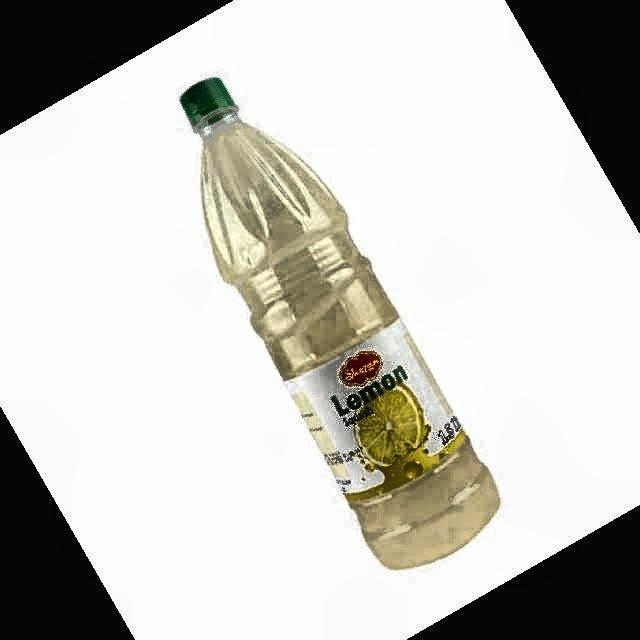plastic: (181, 79, 500, 568)
